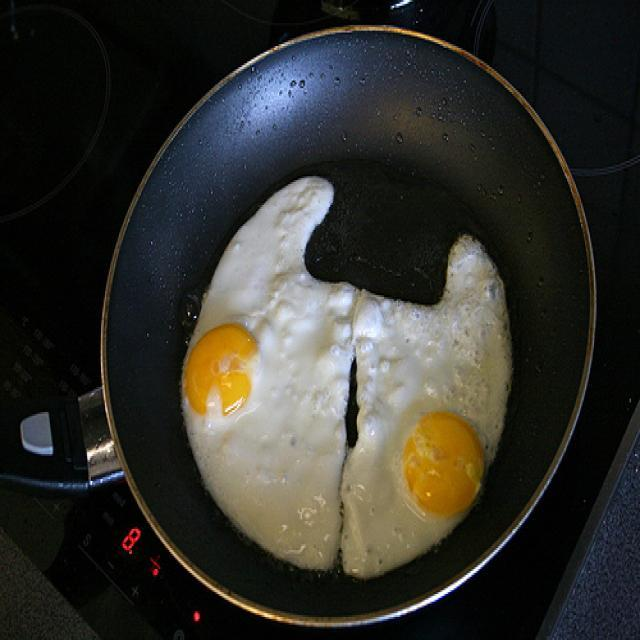Egg: (180, 178, 346, 564), (351, 225, 514, 580)
